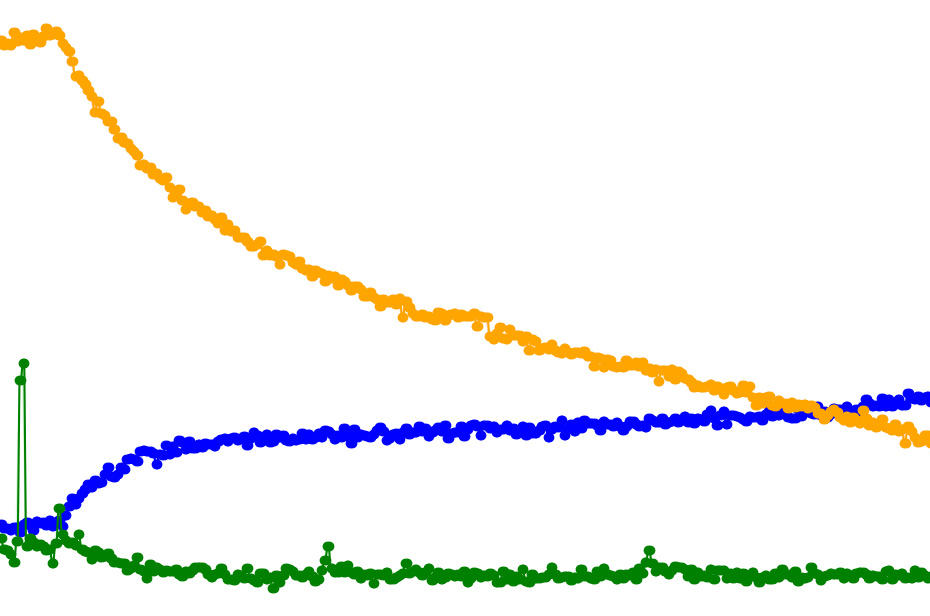Condensation (CO2): (77, 0, 155, 616)
Low O2: (661, 0, 930, 616)
Normal: (155, 0, 930, 616), (77, 0, 661, 616), (661, 0, 930, 616), (0, 0, 155, 616), (0, 0, 77, 616)
